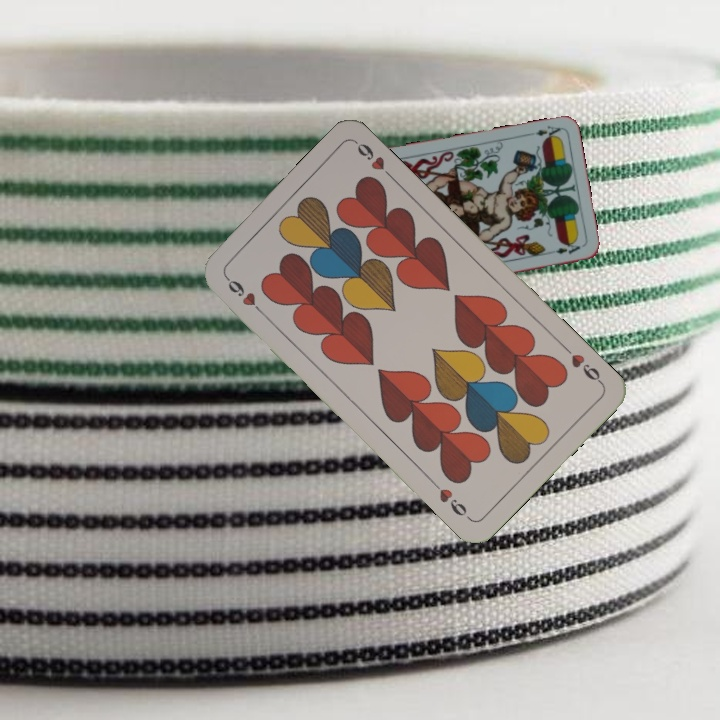EA: (532, 122, 563, 142)
H9: (559, 341, 606, 387), (221, 272, 267, 318)
